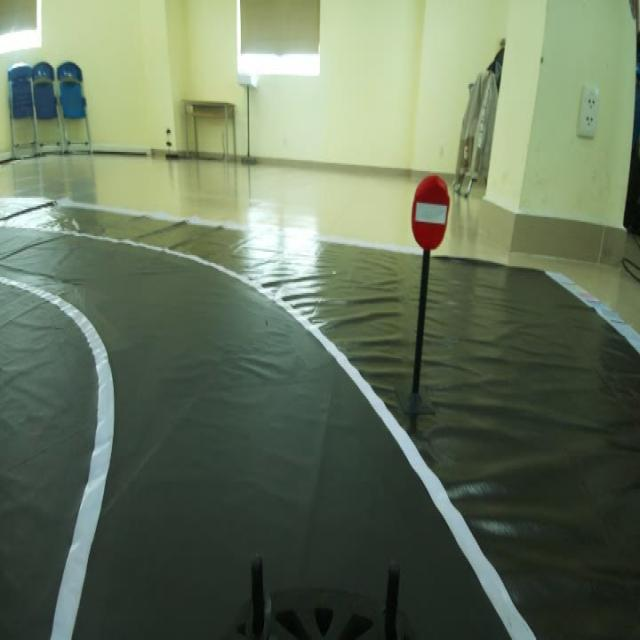no_entry: (410, 167, 455, 258)
